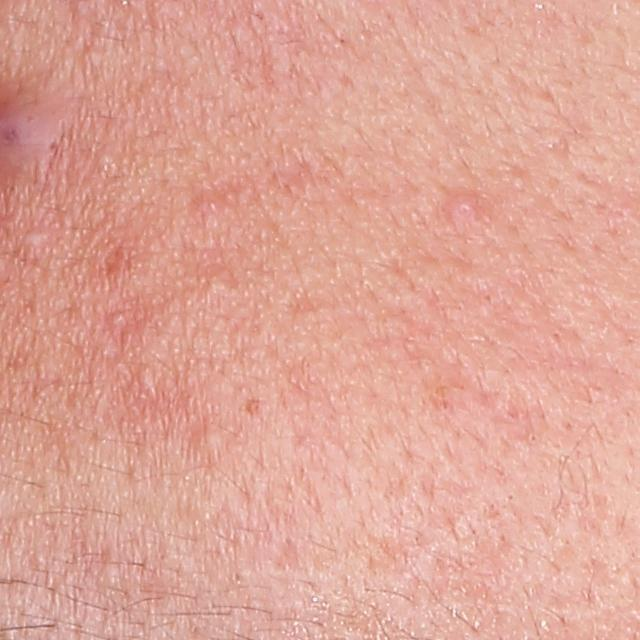comedo: (192, 420, 227, 456), (21, 224, 53, 260), (110, 311, 126, 324)
papule: (451, 189, 483, 228)
